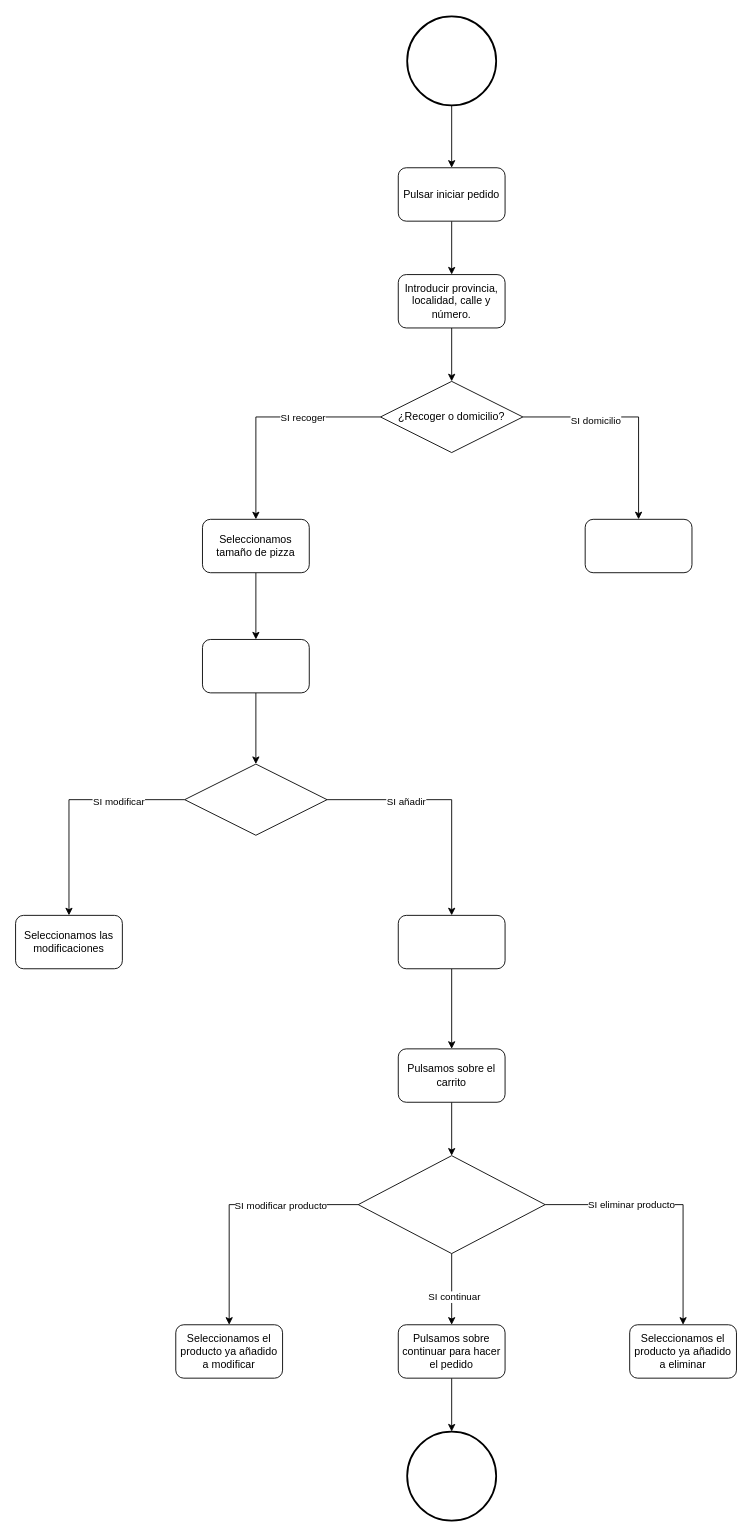
Some shapes in this 752 by 1536 pixel diagram are drawn without their labels. The centre of each missing label's shape, as x and y in pixels:
"Se añade la pizza al carrito" belongs at pixel 451 941.
"Seleccionamos el producto a recibir" belongs at pixel 638 545.
"Seleccionamos el sabor de la pizza" belongs at pixel 255 666.
"¿Continuar, modificar producto o eliminar producto?" belongs at pixel 451 1204.
"¿Modificar o añadir?" belongs at pixel 255 799.
